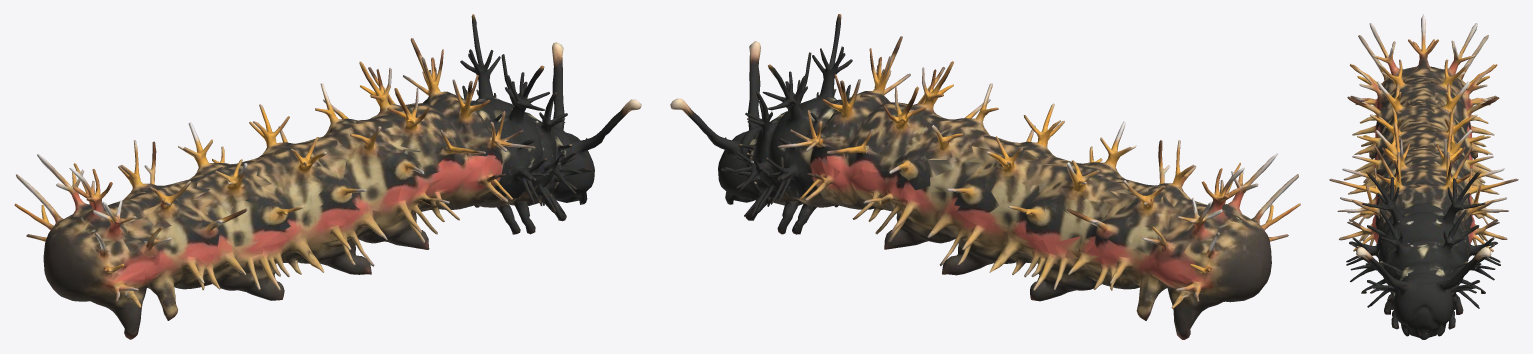
The model's file is oruga_hamadryas.fbx.
3 renders of one model, left to right at view 1: azimuth 30°, elevation 25°; view 2: azimuth 150°, elevation 25°; view 3: azimuth 270°, elevation 25°, orthographic. The views are drawn at different scales.
Parts seen in each view (by area): view 1: tripo_node_8708577f; view 2: tripo_node_8708577f; view 3: tripo_node_8708577f.
Boxes of the visible parts, bbox=[...] form: tripo_node_8708577f: bbox=[14, 14, 641, 339]; tripo_node_8708577f: bbox=[670, 14, 1300, 339]; tripo_node_8708577f: bbox=[1329, 14, 1518, 339].
Bounding box in the file's own units: 1.21 × 0.3779 × 0.4439.
Materials: 1 (1 with a texture image).
